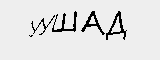А: (77, 9, 107, 34)
Д: (102, 10, 128, 41)
У: (37, 11, 54, 39), (27, 15, 42, 39)
Ш: (49, 10, 78, 32)
